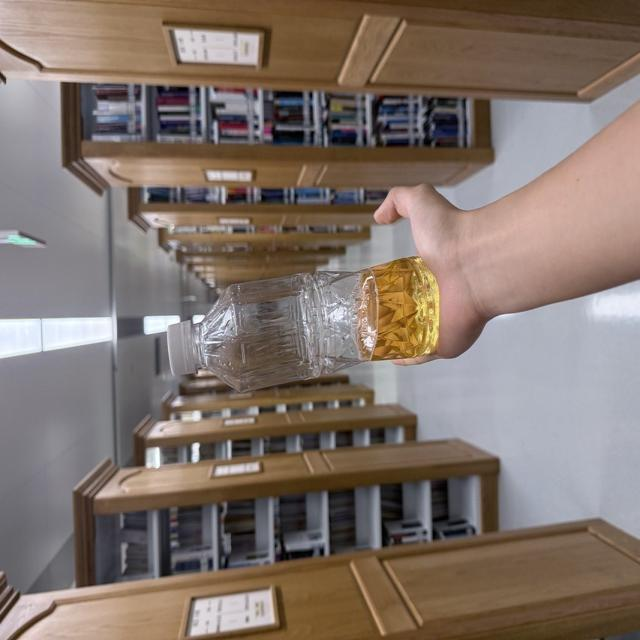low: (167, 256, 439, 391)
